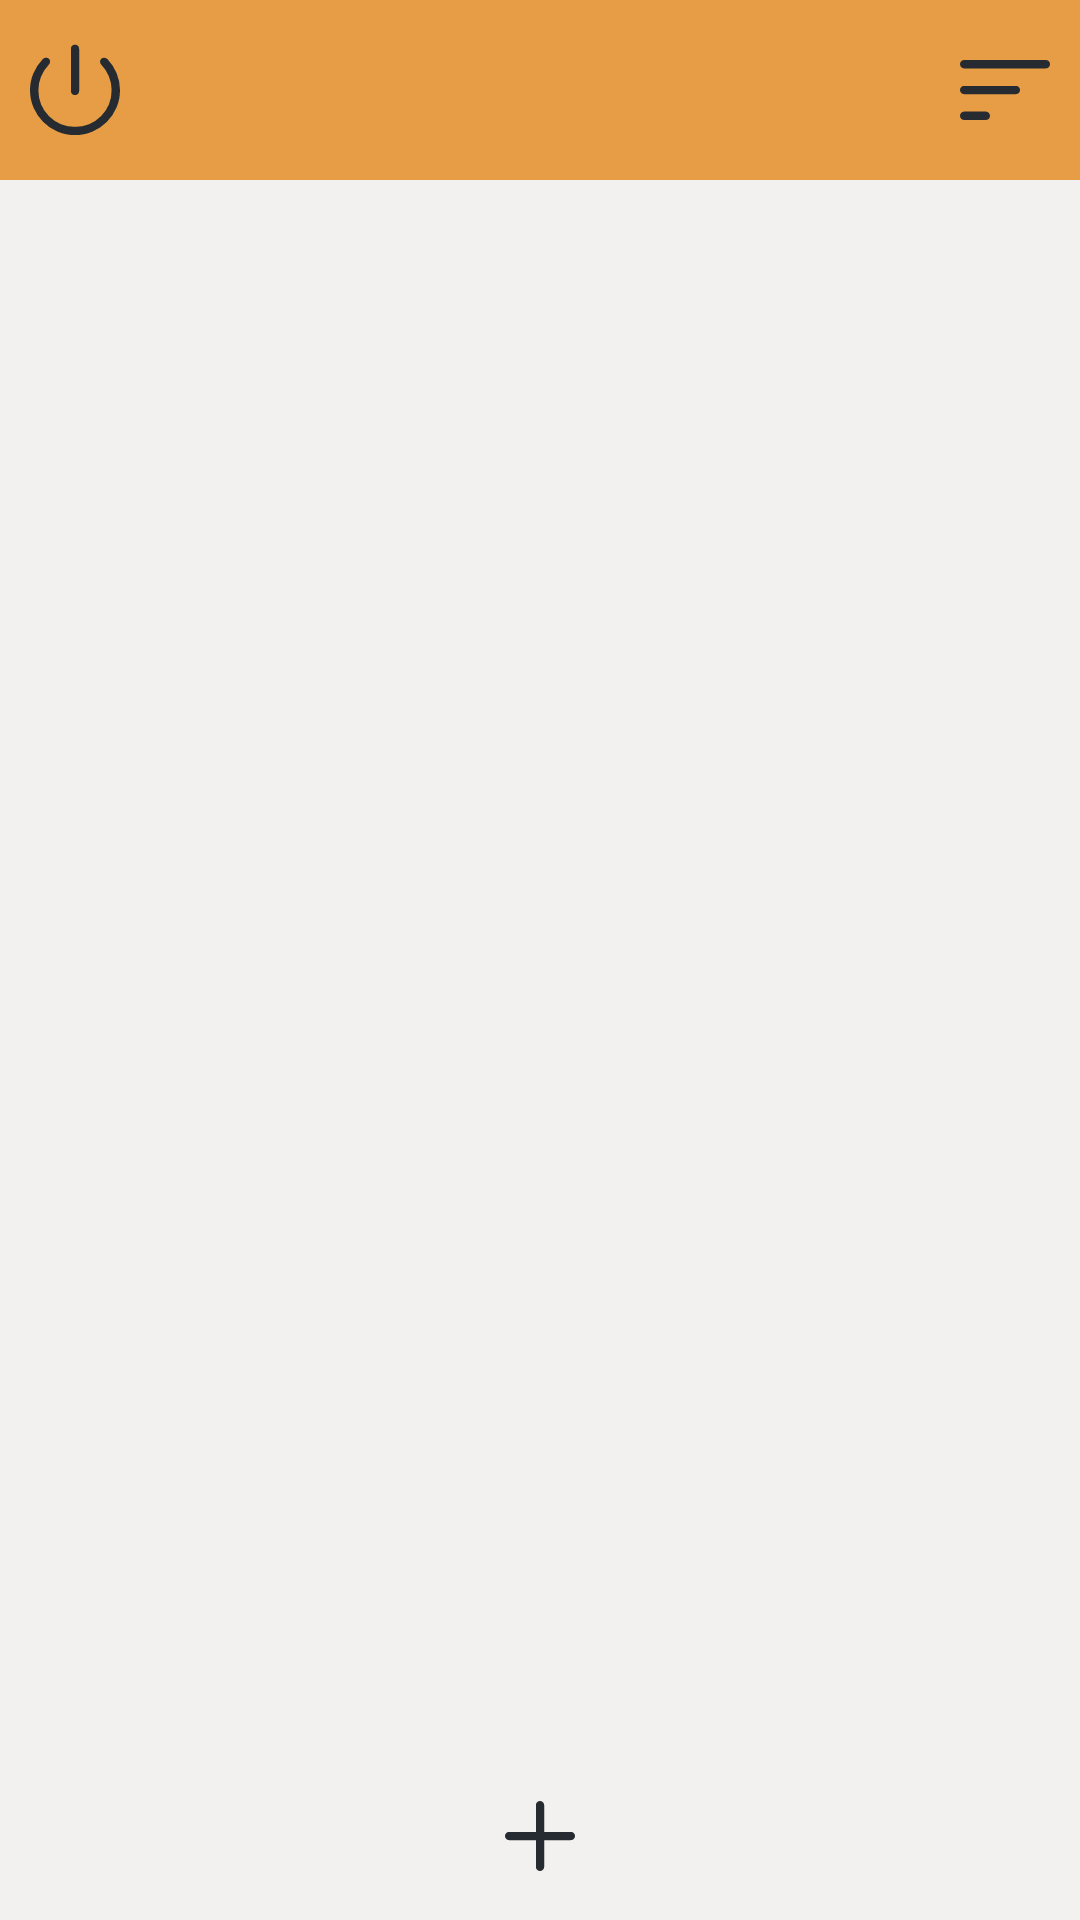

Where icons sit on this 1080 × 1920 app screen, as (x1, y1, x2, y2):
add: (505, 1801, 575, 1871)
list: (960, 60, 1050, 120)
